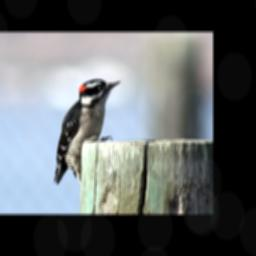Woodpecker: (52, 78, 122, 183)
